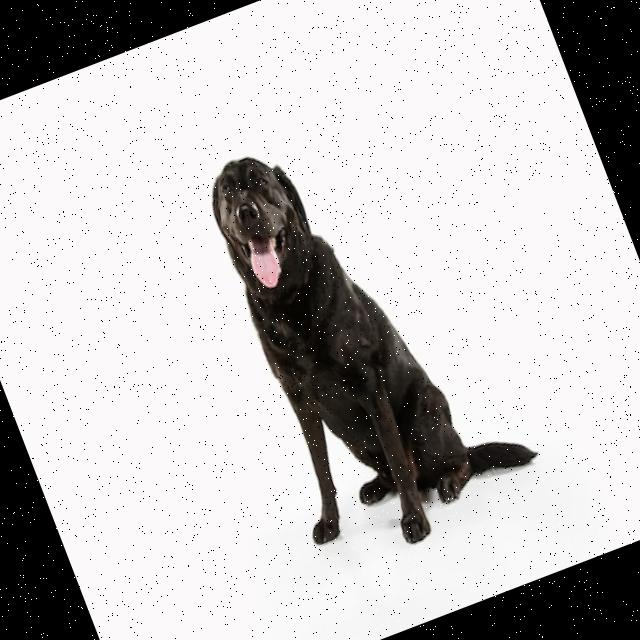Dog: (177, 96, 552, 578)
